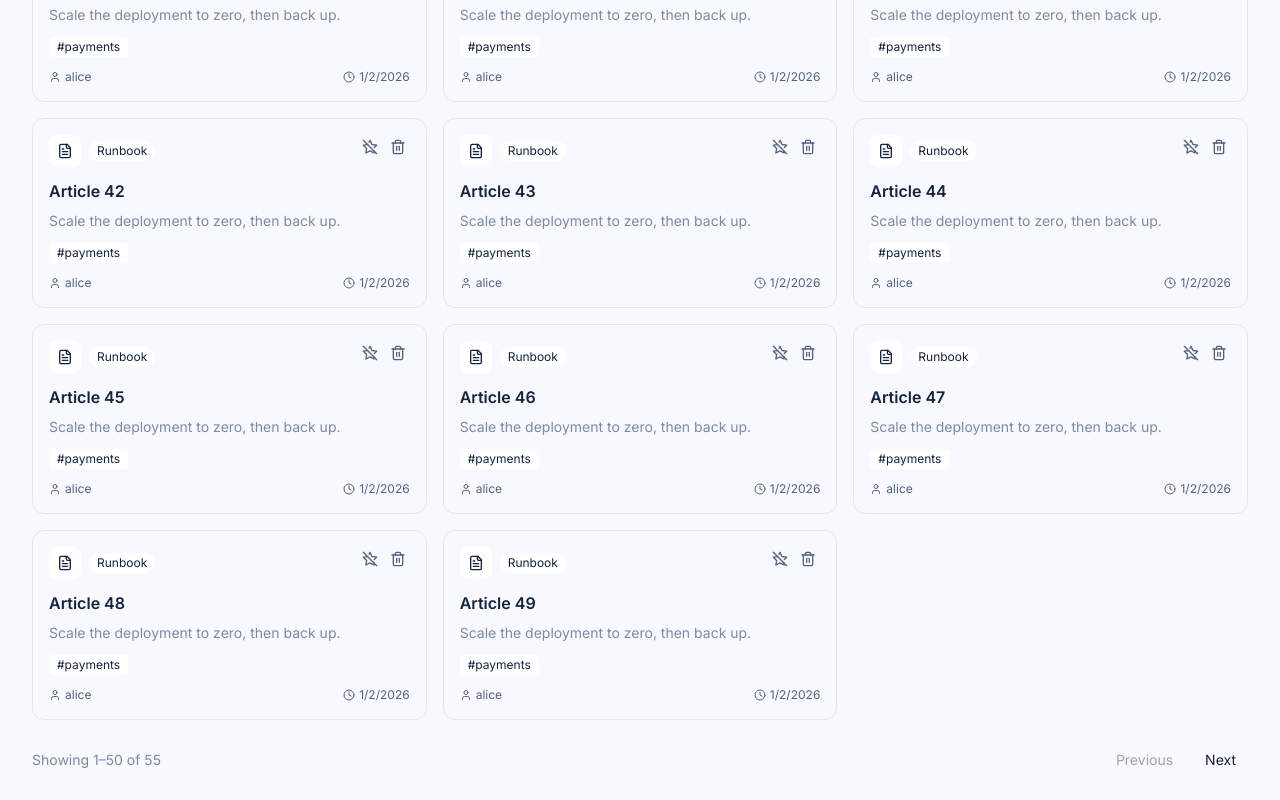
KnowledgeBase paging › asks for a page and can reach the documents past the first 50
The width and height of the screenshot is (1280, 800).
(page scrolled)
Check: the text "Article 50" is not shown
Check: the text "Showing 1–50 of 55" is shown, box [32,750,161,770]
Click the button "Next": (1221, 760) [1193,744,1248,776]
(page scrolled)
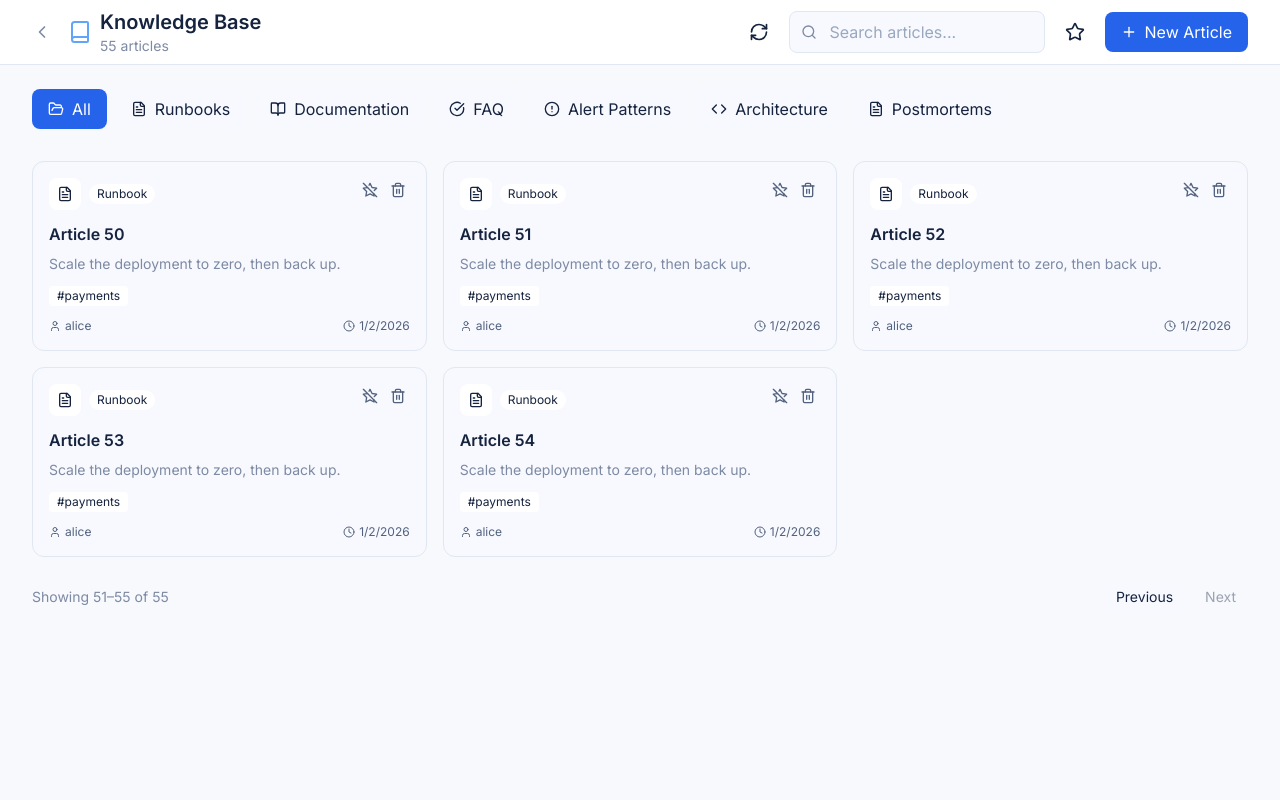
Check: the heading "Article 50" is shown, box [49,224,124,244]
Check: the text "Showing 51–55 of 55" is shown, box [32,587,169,607]
Check: the button "Next" is disabled, box [1193,581,1248,613]
